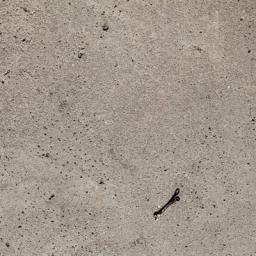FOD: (148, 185, 186, 223)
